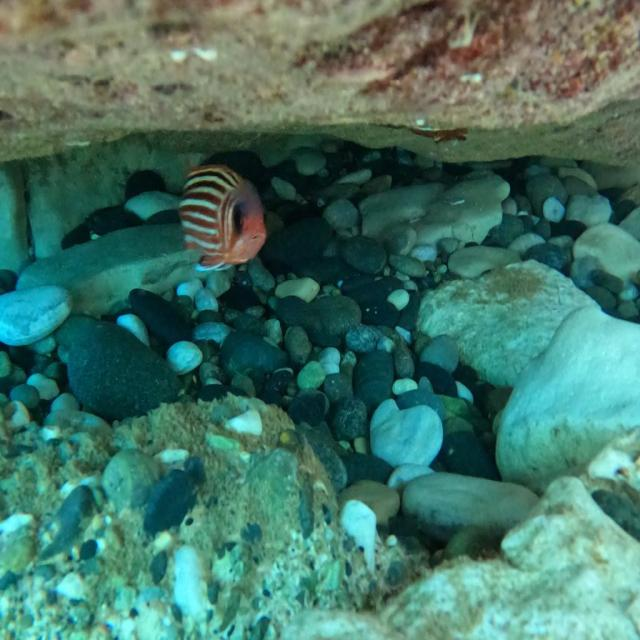Asker Baligi: (165, 142, 287, 286)
